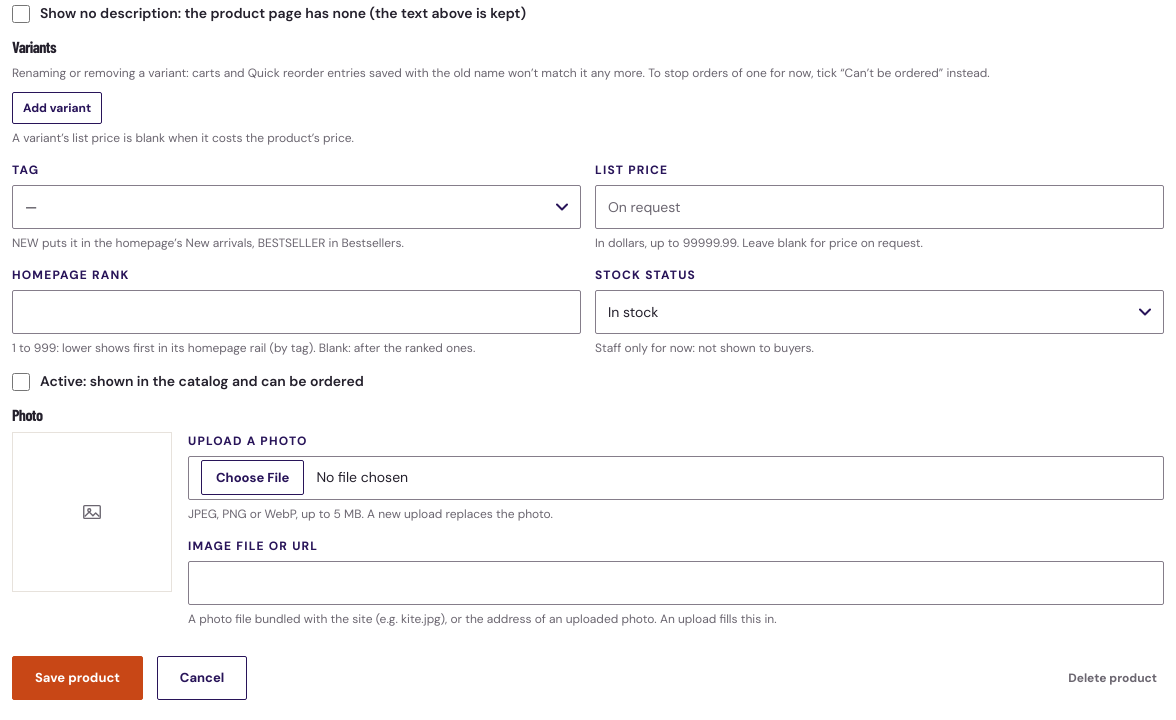
Test case: delete (AW-023) › an inactive product on order lines just says why it stays
The width and height of the screenshot is (1176, 720).
(page scrolled)
Click the button "Delete product".
click(1113, 678)  # box [1061, 662, 1164, 694]
(page scrolled)
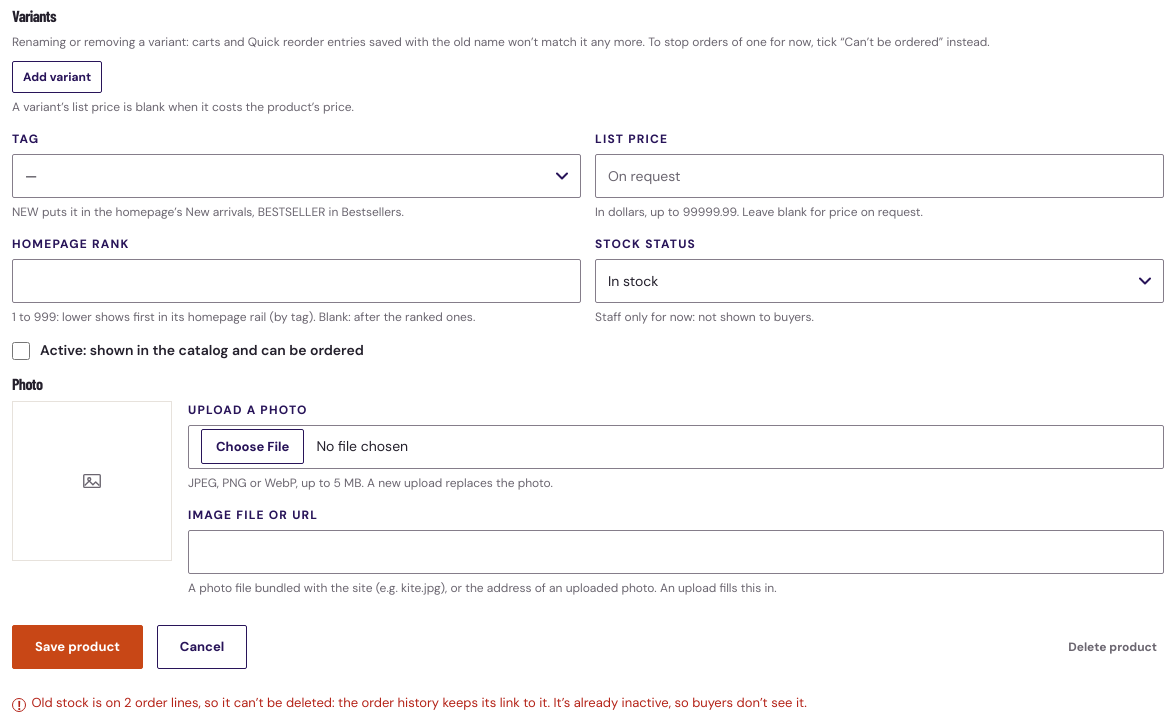
Check: the text "Old stock is on 2 order lines, so it can’t be deleted" is shown, box [32, 694, 807, 711]
